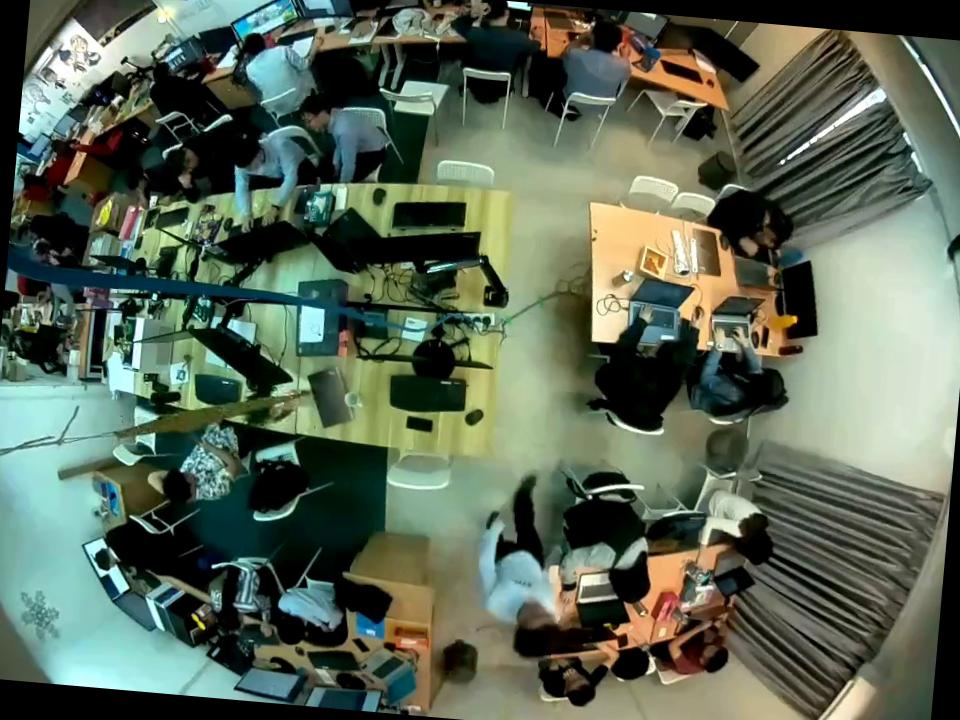employee_tag: (512, 572, 532, 594)
